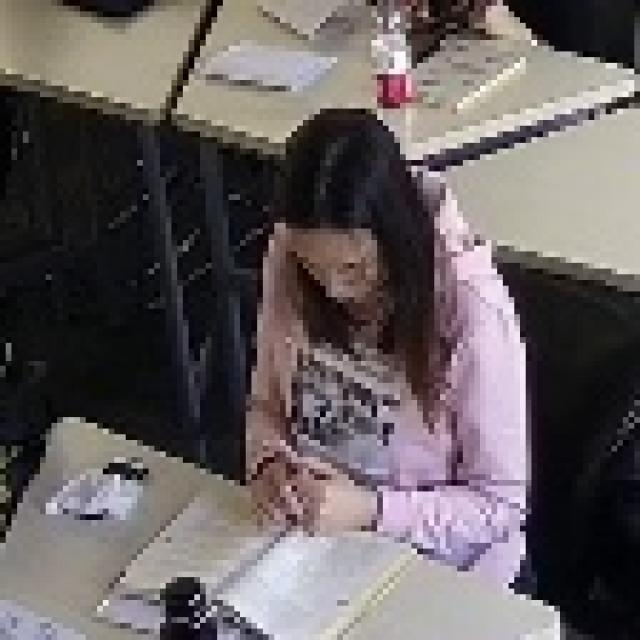write: (235, 97, 545, 629)
